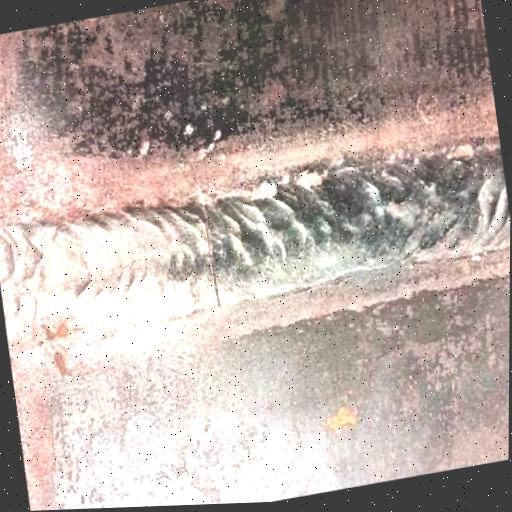crack: (190, 194, 233, 314)
